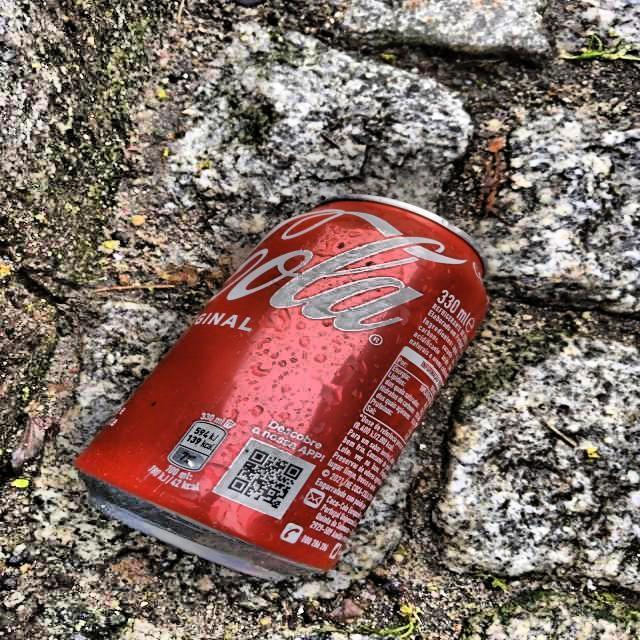metal: (73, 197, 489, 583)
